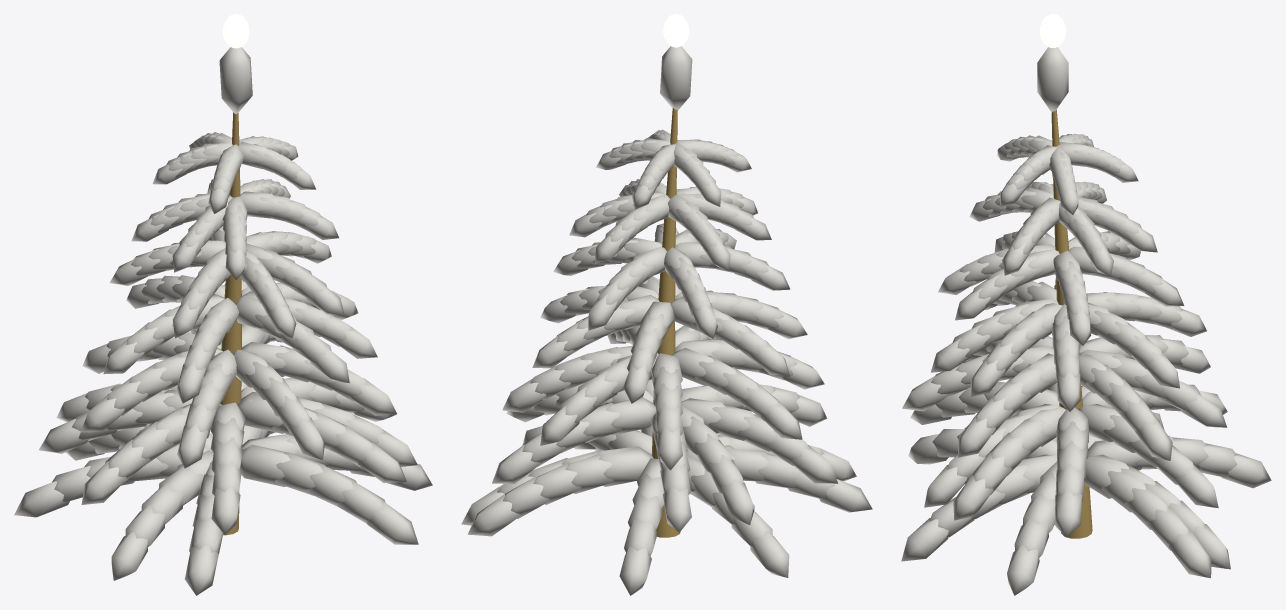
The model's file is tree_conifer.glb.
The picture shows the model from 3 angles, left to right: view 1: azimuth 30°, elevation 25°; view 2: azimuth 150°, elevation 25°; view 3: azimuth 270°, elevation 25°; orthographic projection. The views are drawn at different scales.
Visible parts, largest first — view 1: foliage, conifer, hoju; view 2: foliage, conifer, hoju; view 3: foliage, conifer, hoju.
Part boxes in pixels (<box>): foliage: <box>14,47,432,595</box>; conifer: <box>220,112,241,535</box>; hoju: <box>223,14,249,48</box>; foliage: <box>461,46,872,595</box>; conifer: <box>652,108,680,537</box>; hoju: <box>663,14,688,47</box>; foliage: <box>901,47,1271,595</box>; conifer: <box>1051,109,1092,538</box>; hoju: <box>1039,14,1066,47</box>.
Bounding box in the file's own units: 5.97 × 8.62 × 5.59.
